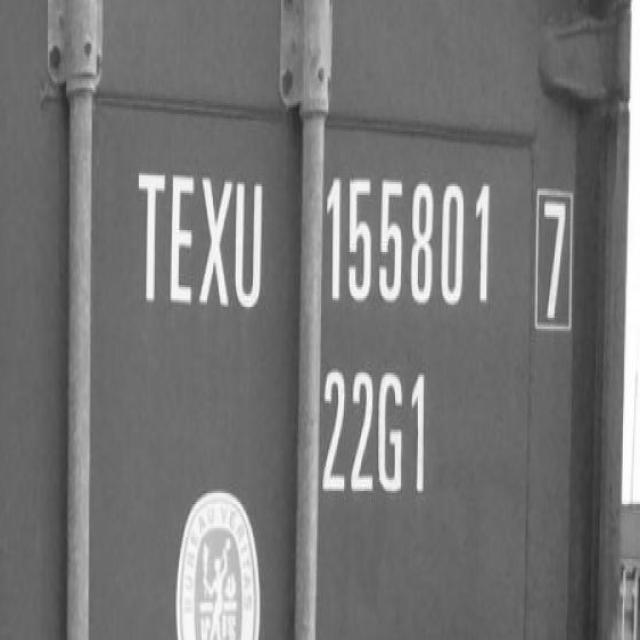dv: (527, 182, 582, 342)
owner: (133, 154, 273, 324)
serial: (314, 150, 495, 327)
size: (321, 356, 438, 509)
